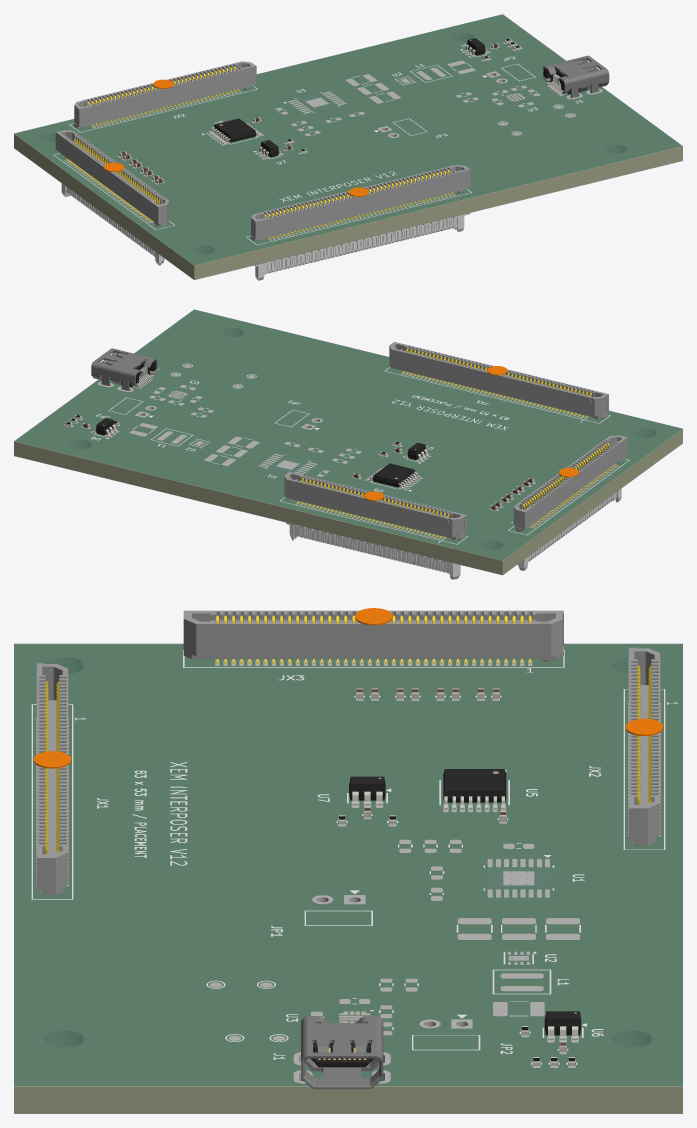
The model's file is interposer-v12-detailed.glb.
3 views of the same model, one above another, from view 1: azimuth 30°, elevation 25°; view 2: azimuth 150°, elevation 25°; view 3: azimuth 270°, elevation 25° (orthographic). The views are drawn at different scales.
Visible parts, largest first — view 1: XEM_Interposer_V12_BRK_JTAG_1V8_PCB, XEM_Interposer_V12_BRK_JTAG_1V8_soldermask (×2), JX1, JX2, XEM_Interposer_V12_BRK_JTAG_1V8_pad, JX3, JB1, J1, XEM_Interposer_V12_BRK_JTAG_1V8_silkscreen, U5, JB3; view 2: XEM_Interposer_V12_BRK_JTAG_1V8_PCB, XEM_Interposer_V12_BRK_JTAG_1V8_soldermask (×2), JX1, JX2, XEM_Interposer_V12_BRK_JTAG_1V8_pad, JX3, JB2, XEM_Interposer_V12_BRK_JTAG_1V8_silkscreen, J1, U5, JB3; view 3: XEM_Interposer_V12_BRK_JTAG_1V8_PCB, XEM_Interposer_V12_BRK_JTAG_1V8_soldermask, JX3, XEM_Interposer_V12_BRK_JTAG_1V8_pad, JX1, JX2, XEM_Interposer_V12_BRK_JTAG_1V8_silkscreen, J1, U5, U7, U6.
Boxes of the visible parts, x1,y1,x2,y2 form: XEM_Interposer_V12_BRK_JTAG_1V8_PCB: [14, 15, 682, 279]; XEM_Interposer_V12_BRK_JTAG_1V8_soldermask (×2): [14, 14, 682, 279]; JX1: [250, 164, 470, 240]; JX2: [74, 61, 256, 128]; XEM_Interposer_V12_BRK_JTAG_1V8_pad: [64, 41, 602, 240]; JX3: [55, 130, 169, 226]; JB1: [254, 213, 470, 280]; J1: [543, 55, 609, 98]; XEM_Interposer_V12_BRK_JTAG_1V8_silkscreen: [53, 42, 583, 245]; U5: [208, 118, 261, 144]; JB3: [61, 183, 164, 265]; XEM_Interposer_V12_BRK_JTAG_1V8_PCB: [14, 310, 682, 574]; XEM_Interposer_V12_BRK_JTAG_1V8_soldermask (×2): [14, 309, 682, 575]; JX1: [389, 342, 608, 419]; JX2: [284, 472, 466, 539]; XEM_Interposer_V12_BRK_JTAG_1V8_pad: [63, 364, 618, 540]; JX3: [513, 435, 627, 531]; JB2: [286, 522, 460, 579]; XEM_Interposer_V12_BRK_JTAG_1V8_silkscreen: [66, 363, 629, 544]; J1: [91, 348, 157, 390]; U5: [367, 463, 420, 489]; JB3: [518, 488, 621, 570]; XEM_Interposer_V12_BRK_JTAG_1V8_PCB: [14, 645, 682, 1113]; XEM_Interposer_V12_BRK_JTAG_1V8_soldermask: [14, 643, 682, 1086]; JX3: [183, 608, 563, 663]; XEM_Interposer_V12_BRK_JTAG_1V8_pad: [36, 660, 660, 1083]; JX1: [33, 663, 71, 895]; JX2: [625, 647, 663, 845]; XEM_Interposer_V12_BRK_JTAG_1V8_silkscreen: [31, 650, 677, 1064]; J1: [301, 1016, 383, 1089]; U5: [443, 769, 506, 809]; U7: [349, 776, 385, 805]; U6: [544, 1011, 581, 1039].
Bounding box in the file's own units: 0.0836 × 0.0102 × 0.053.
